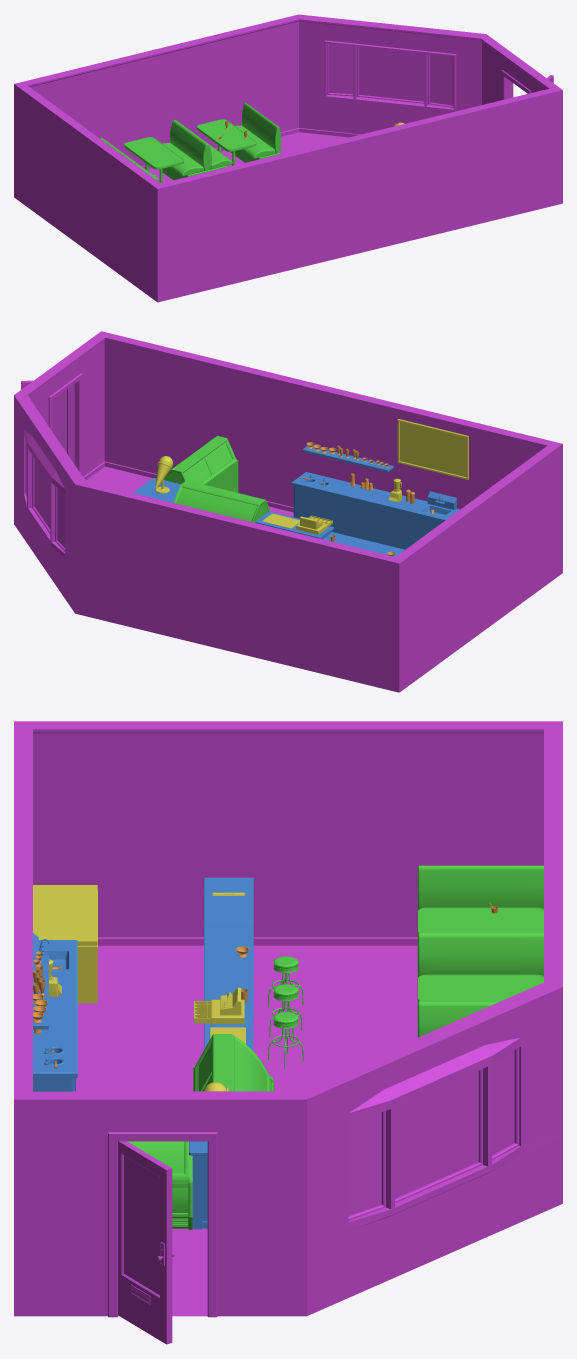
3 views of the same model, one above another, from view 1: azimuth 30°, elevation 25°; view 2: azimuth 150°, elevation 25°; view 3: azimuth 270°, elevation 25° (orthographic). The views are drawn at different scales.
Visible parts, largest first — view 1: polySurface284, pCube133, pCube134, polySurface404, polySurface339, polySurface235 polySurface230 polySurface42 polySurface18 pC, polySurface254 polySurface235 polySurface230 polySurface42 p; view 2: polySurface284, pCube125, pCube126, polySurface372, polySurface306, polySurface370, polySurface254 polySurface235 polySurface230 polySurface42 p, polySurface235 polySurface230 polySurface42 polySurface18 pC, pCube110 polySurface252, pCube113, polySurface31, polySurface378 (+2 smaller); view 3: polySurface284, polySurface235 polySurface230 polySurface42 polySurface18 pC, polySurface370, pCube143, pCube144, pCube125, polySurface270, polySurface254 polySurface235 polySurface230 polySurface42 p, pCube110 polySurface252, polySurface306, polySurface405, polySurface404 (+5 smaller).
Boxes of the visible parts, x1,y1,x2,y2 form: polySurface284: [14, 14, 562, 302]; pCube133: [159, 120, 232, 180]; pCube134: [230, 102, 281, 162]; polySurface404: [124, 137, 183, 183]; polySurface339: [196, 119, 256, 165]; polySurface235 polySurface230 polySurface42 polySurface18 pC: [148, 132, 348, 182]; polySurface254 polySurface235 polySurface230 polySurface42 p: [501, 70, 531, 99]; polySurface284: [14, 331, 562, 692]; pCube125: [291, 472, 459, 549]; pCube126: [397, 419, 468, 479]; polySurface372: [164, 436, 238, 492]; polySurface306: [173, 480, 270, 522]; polySurface370: [21, 380, 74, 463]; polySurface254 polySurface235 polySurface230 polySurface42 p: [48, 373, 82, 475]; polySurface235 polySurface230 polySurface42 polySurface18 pC: [86, 466, 293, 517]; pCube110 polySurface252: [323, 532, 404, 556]; pCube113: [302, 446, 393, 472]; polySurface31: [133, 478, 180, 502]; polySurface378: [296, 515, 332, 534]; polySurface284: [14, 721, 562, 1316]; polySurface235 polySurface230 polySurface42 polySurface18 pC: [76, 945, 417, 1316]; polySurface370: [118, 1141, 174, 1344]; pCube143: [417, 932, 543, 978]; pCube144: [417, 865, 543, 911]; pCube125: [33, 933, 77, 1091]; polySurface270: [33, 885, 97, 1003]; polySurface254 polySurface235 polySurface230 polySurface42 p: [108, 1132, 217, 1317]; pCube110 polySurface252: [204, 877, 253, 1016]; polySurface306: [193, 1034, 274, 1091]; polySurface405: [417, 907, 543, 933]; polySurface404: [417, 974, 543, 1002].
Bounding box in the file's own units: 208169 × 51840 × 118734.
